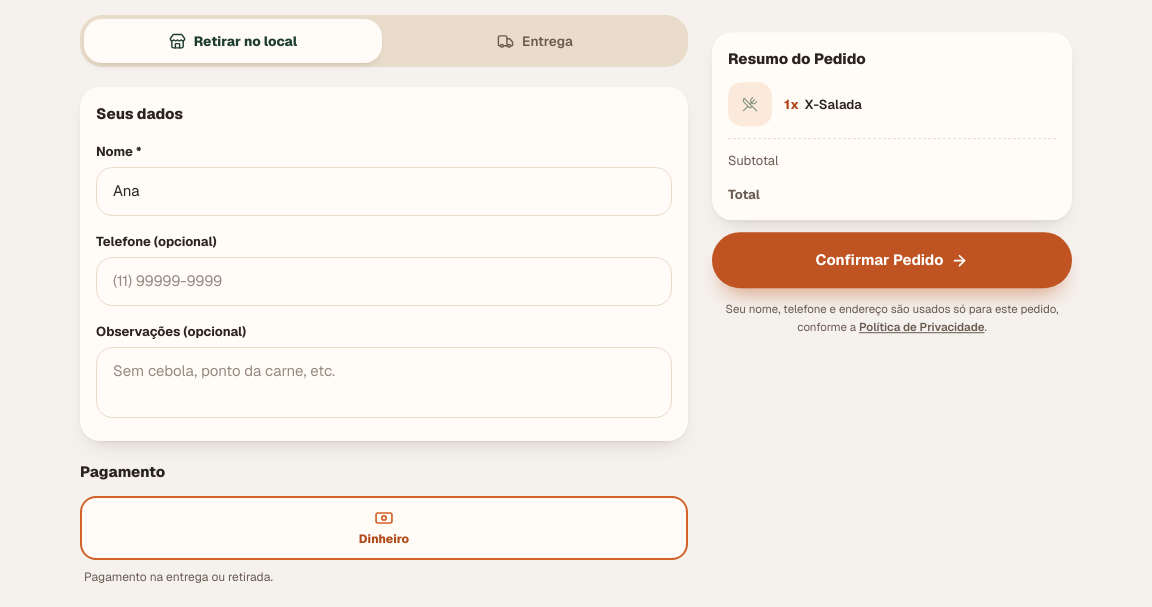
a validação da entrega › aponta cada campo que falta, ao lado dele
Click the button "Entrega" at x=535, y=41, box x1=386 y1=19 x2=684 y2=63
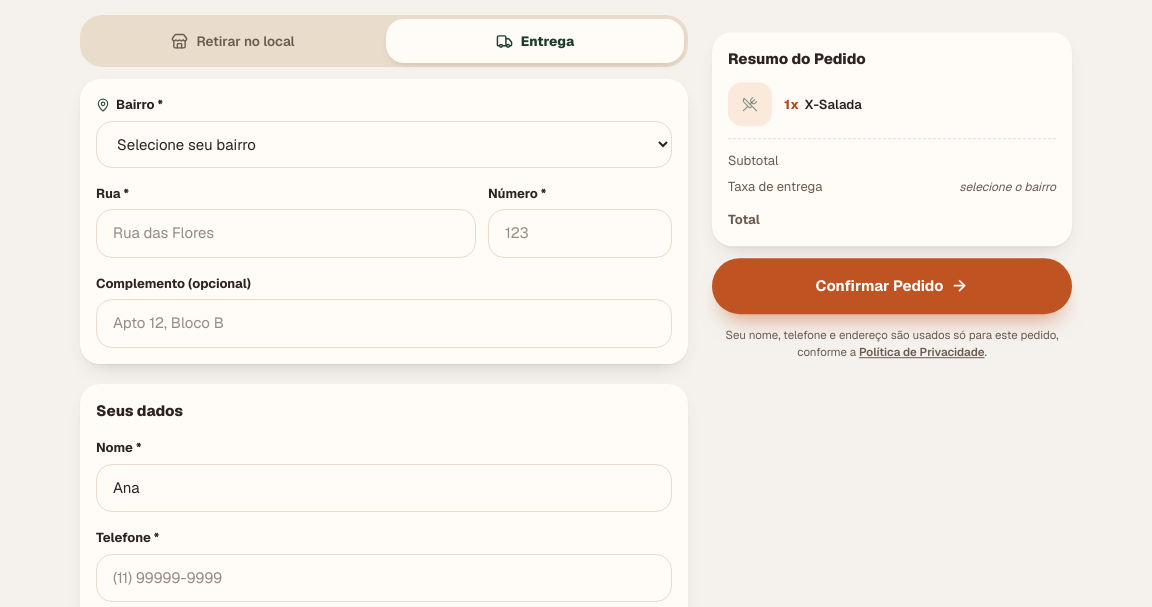
Click the button "Confirmar Pedido" at x=892, y=286, box x1=712 y1=258 x2=1072 y2=314
(page scrolled)
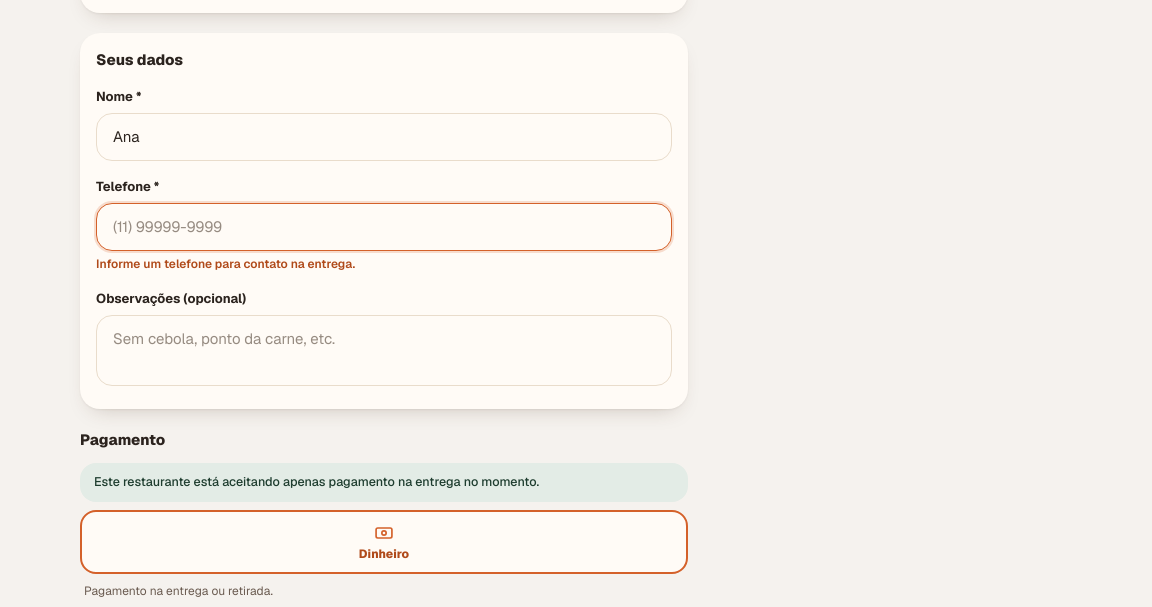
Expected: the text "Informe um telefone para contato na entrega." is shown, x1=96 y1=256 x2=355 y2=272
